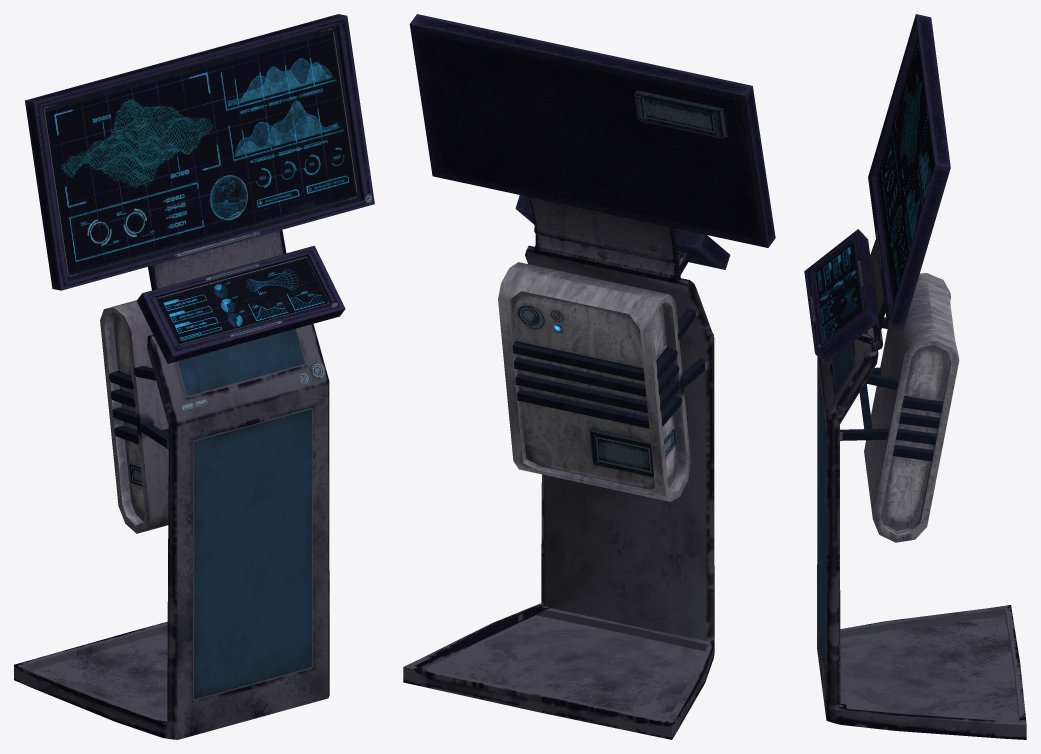
The picture shows the model from 3 angles, left to right: view 1: azimuth 30°, elevation 25°; view 2: azimuth 150°, elevation 25°; view 3: azimuth 270°, elevation 25°; orthographic projection. The views are drawn at different scales.
Visible parts, largest first — view 1: terminal_low; view 2: terminal_low; view 3: terminal_low.
Part boxes in pixels (x1,y1,x2,y2): terminal_low: (14,14,374,739); terminal_low: (403,14,775,739); terminal_low: (804,14,1026,739).
Bounding box in the file's own units: 34.77 × 63.3 × 21.53.
Materials: 1 (1 with a texture image).
